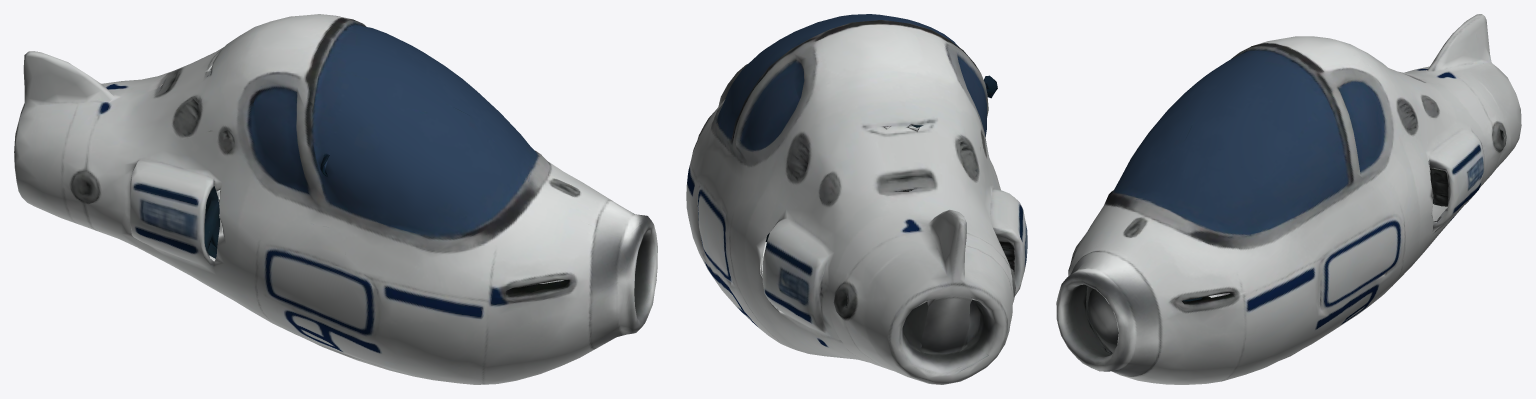
The model's file is von-willebrand-express.glb.
3 views of the same model, side by side, from view 1: azimuth 30°, elevation 25°; view 2: azimuth 150°, elevation 25°; view 3: azimuth 270°, elevation 25° (orthographic). The views are drawn at different scales.
Parts seen in each view (by area): view 1: world; view 2: world; view 3: world.
Boxes of the visible parts, left/top/right/bottom form: world: left=14, top=14, right=657, bottom=384; world: left=686, top=14, right=1027, bottom=384; world: left=1056, top=14, right=1521, bottom=384.
Bounding box in the file's own units: 0.9968 × 0.663 × 1.
1 material, 1 textured.
